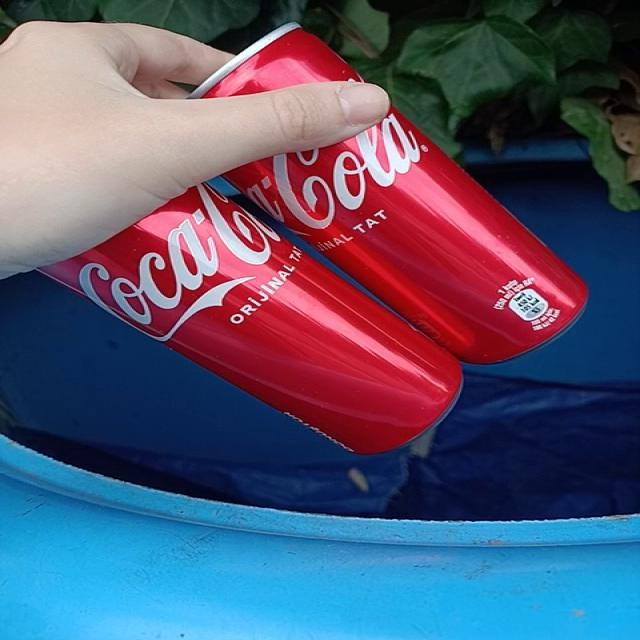bin: (1, 138, 640, 640)
metal: (41, 185, 459, 454), (227, 108, 588, 364), (193, 23, 360, 98)
